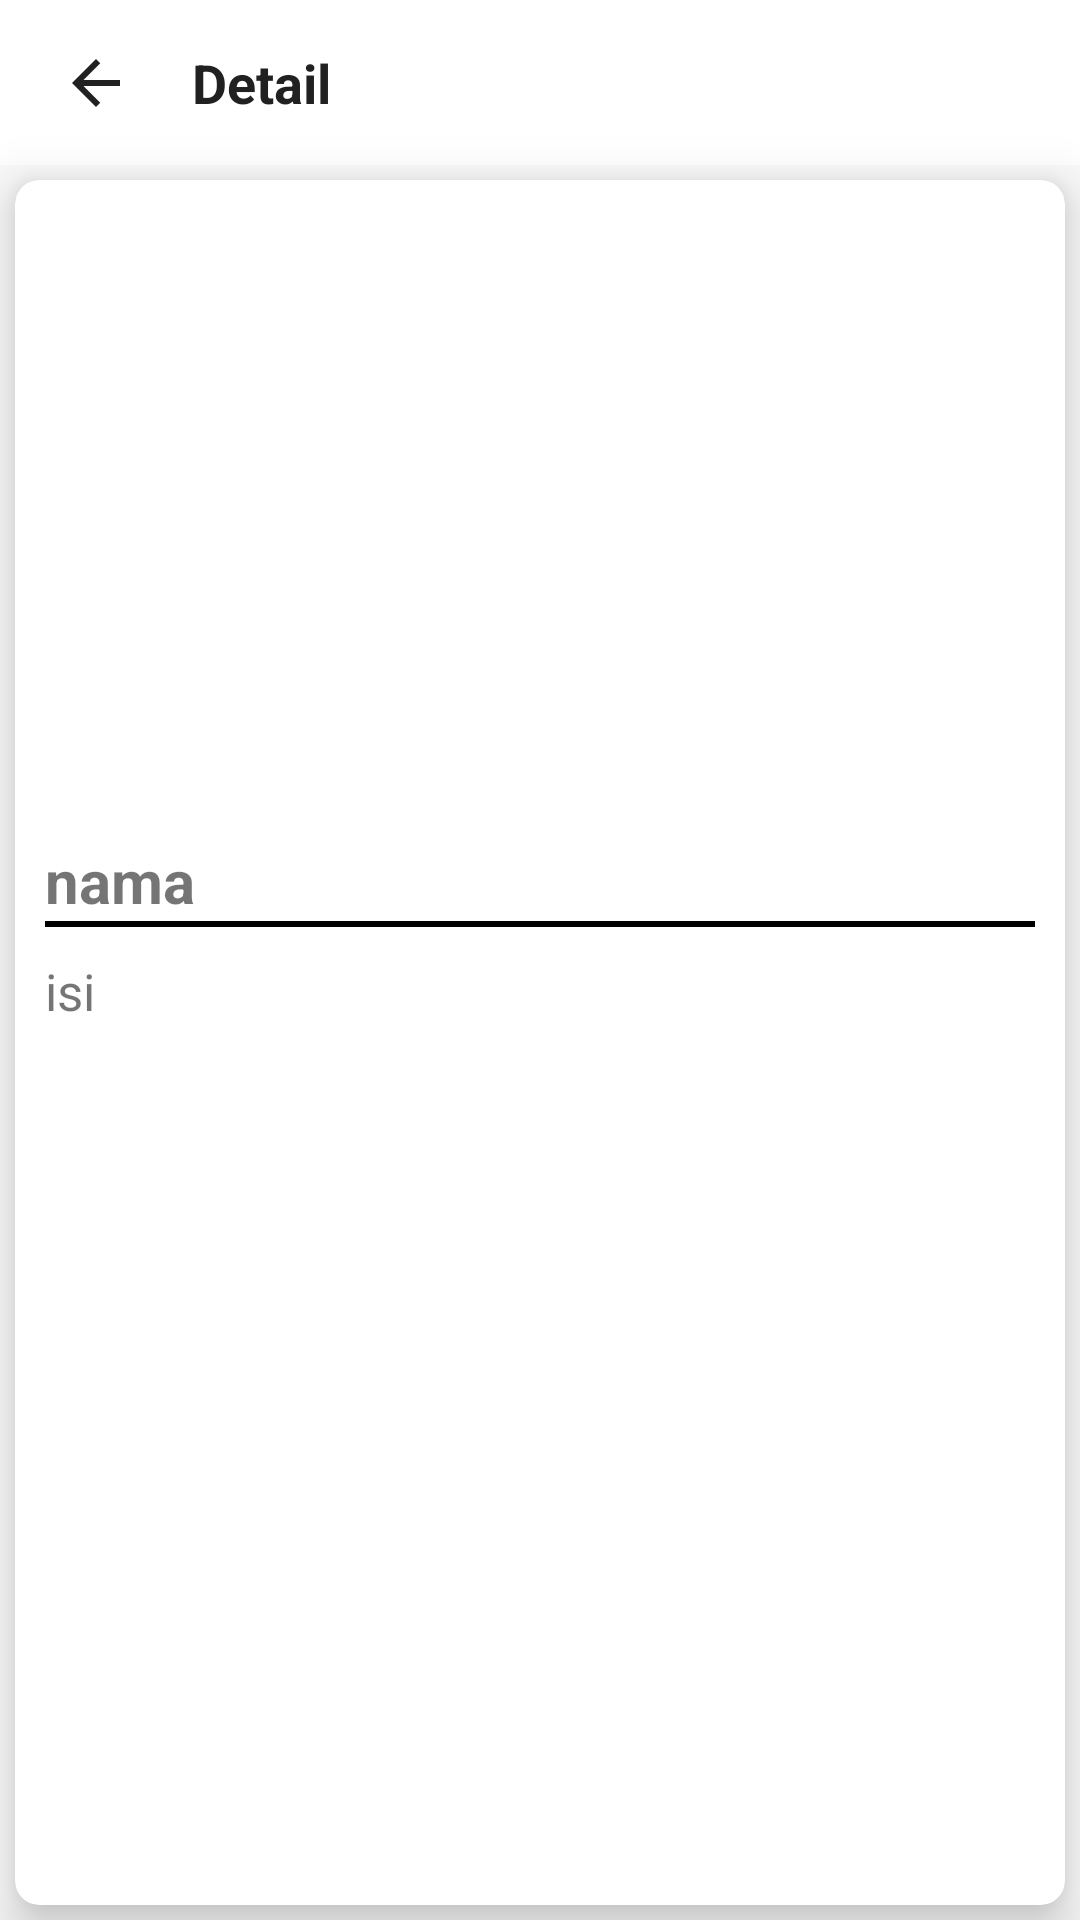

Where to tap for icons on this 1080×1920 app screen, as (x,y):
arrow back: (96,83)
